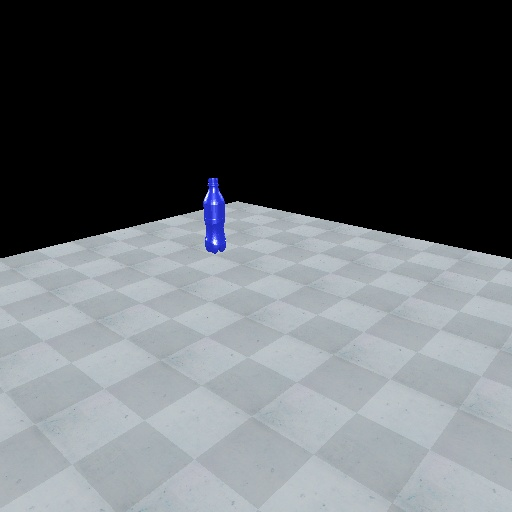bottle: (199, 174, 229, 256)
